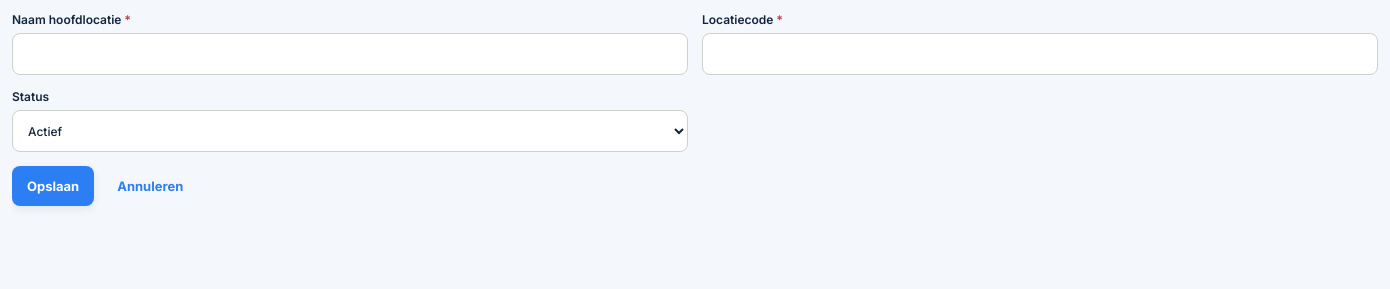
MainLocationForm › requires a location code for a new Hoofdlocatie and shows a red error
The image size is (1390, 289).
Type "Zonder code" into the field labelled "Naam hoofdlocatie *" at (350, 54), box [12,33,688,75]
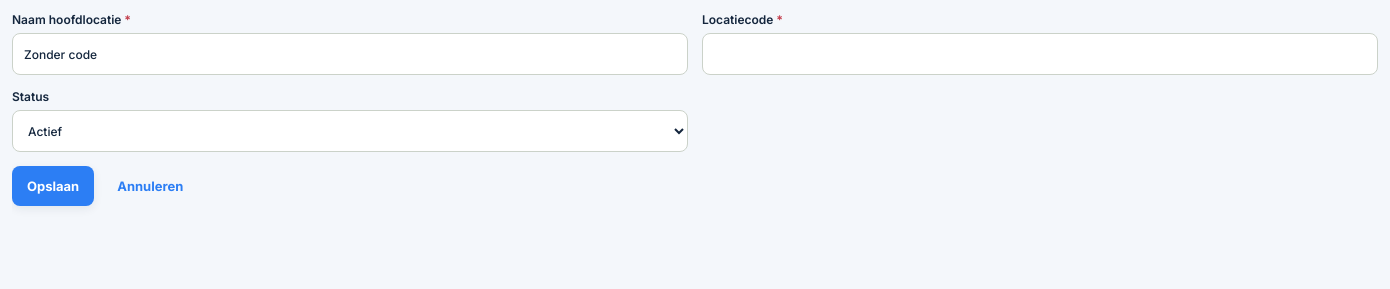
Submit the form "Naam hoofdlocatie * Locatiecode * Status Opslaan Annuleren"
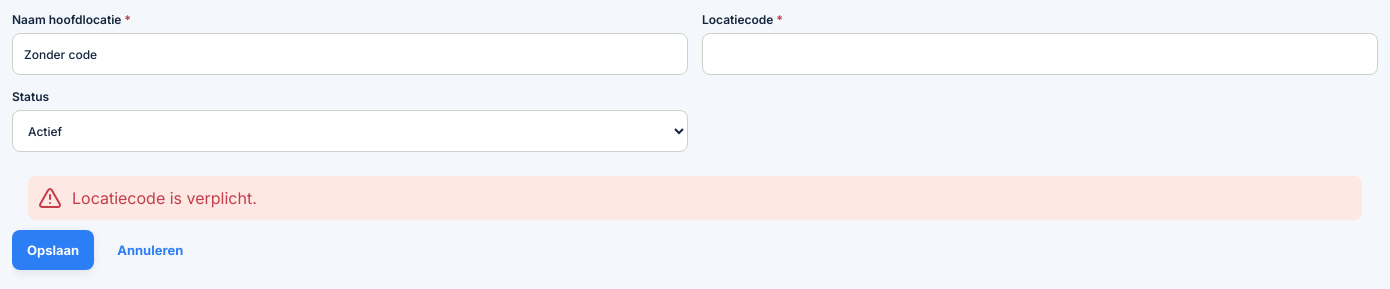
expect the text "Locatiecode is verplicht." is shown: met, box [72,188,257,208]
